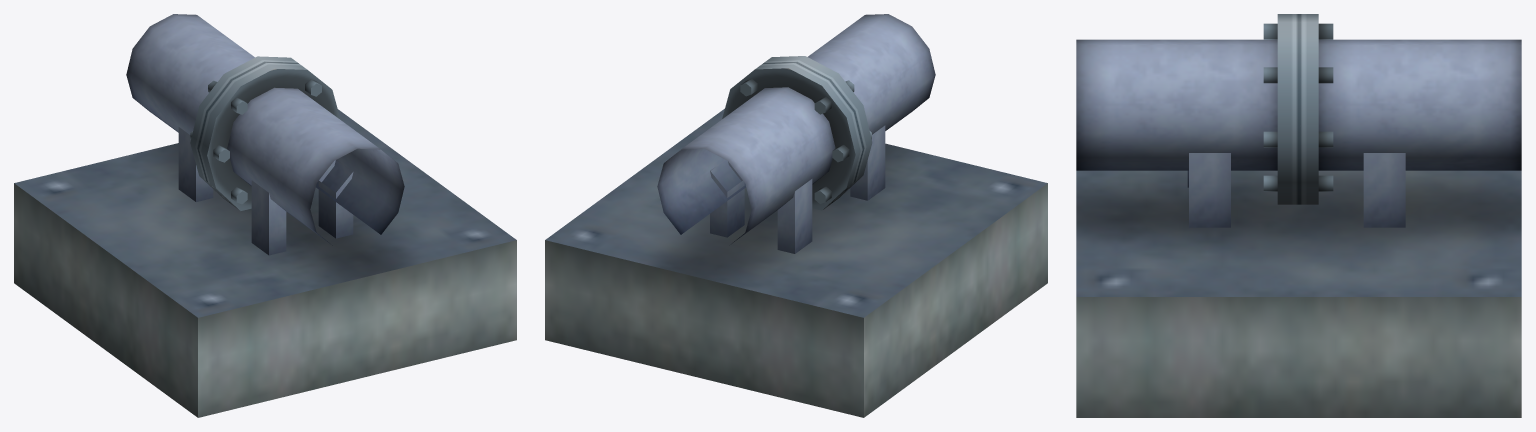
File: ind_tile_pipe_join.obj
3 views of the same model, side by side, from view 1: azimuth 30°, elevation 25°; view 2: azimuth 150°, elevation 25°; view 3: azimuth 270°, elevation 25° (orthographic). The views are drawn at different scales.
Visible parts, largest first — view 1: tile_boundary03; view 2: tile_boundary03; view 3: tile_boundary03.
Part boxes in pixels (<box>): tile_boundary03: <box>14,14,516,417</box>; tile_boundary03: <box>545,14,1047,417</box>; tile_boundary03: <box>1076,14,1521,417</box>.
Size of the model in its own units: 1 by 0.7476 by 1.
Materials: 1 (1 with a texture image).
